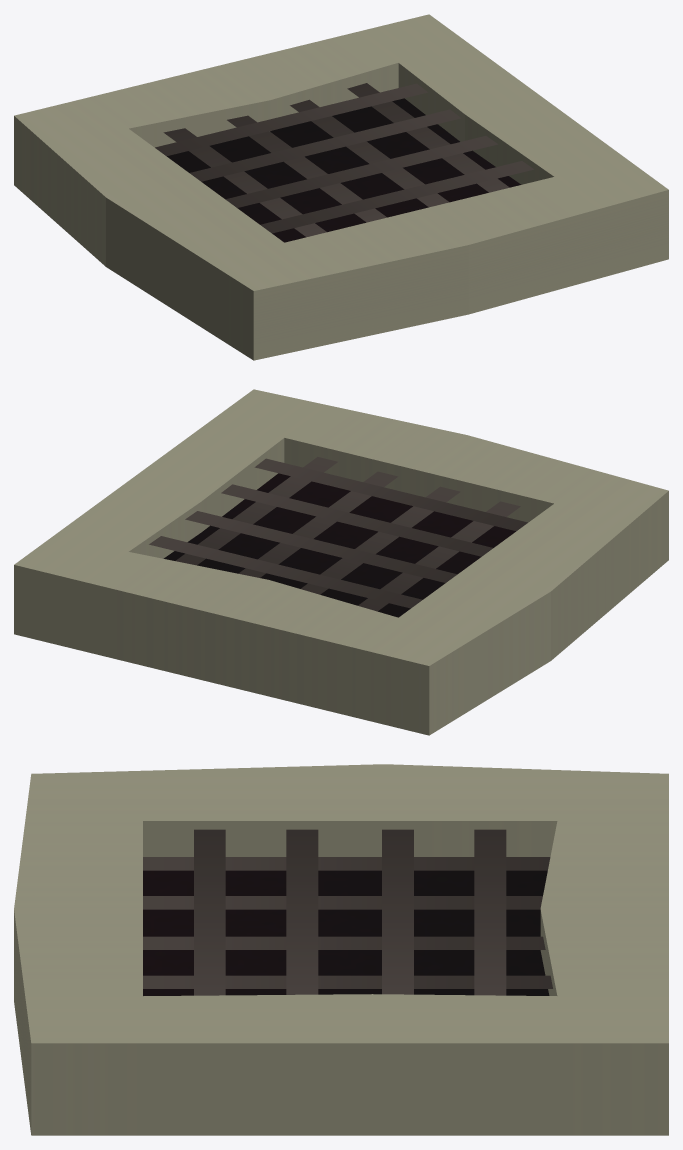
Rendered from Well_1_LOD1.fbx.
3 renders of one model, top to bottom at view 1: azimuth 30°, elevation 25°; view 2: azimuth 150°, elevation 25°; view 3: azimuth 270°, elevation 25°, orthographic. The views are drawn at different scales.
Visible parts, largest first — view 1: polySurface9738; view 2: polySurface9738; view 3: polySurface9738.
Boxes of the visible parts, box(x1,y1,x2,y2) form: polySurface9738: box(14, 14, 668, 360); polySurface9738: box(14, 389, 668, 735); polySurface9738: box(14, 764, 668, 1135).
Size of the model in its own units: 155 by 24 by 154.
